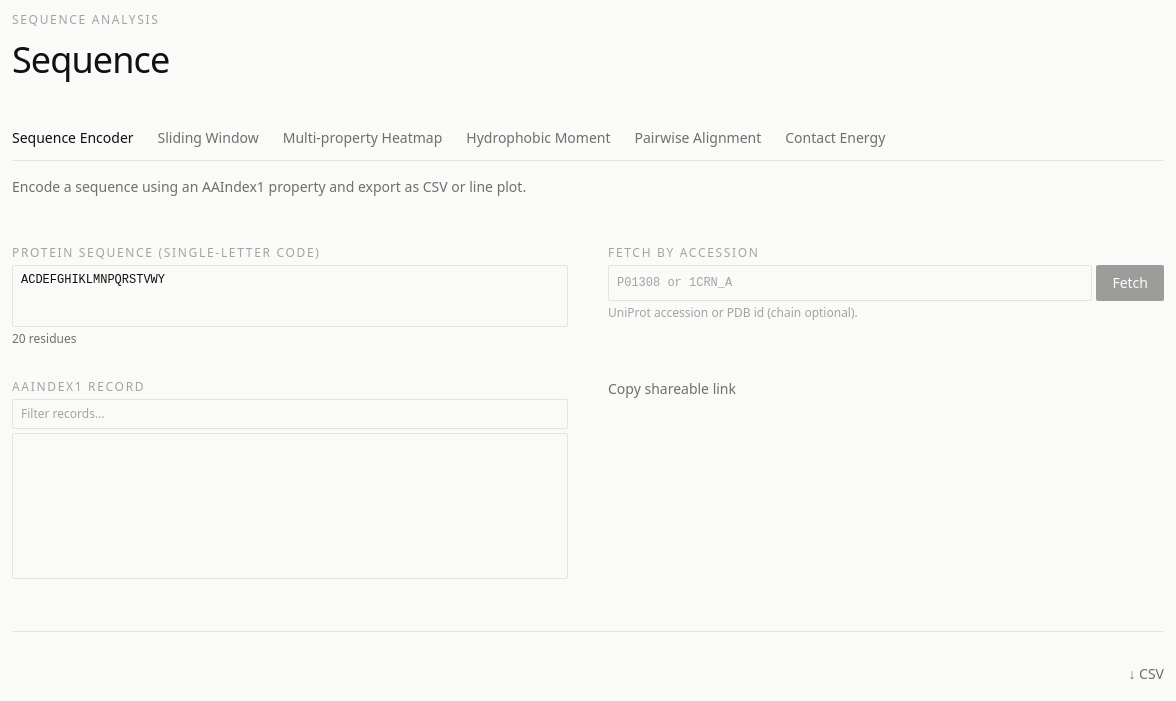
Test: SequenceAnalysis — Encoder tab › typing a new sequence updates the residue count
This screenshot has width=1176, height=701.
Replace the text in the text box with placeholder "e.g. ACDEFGHIKLMNPQRSTVWY" with "ACDE" at coordinates (290, 296), box [12,265,568,327]
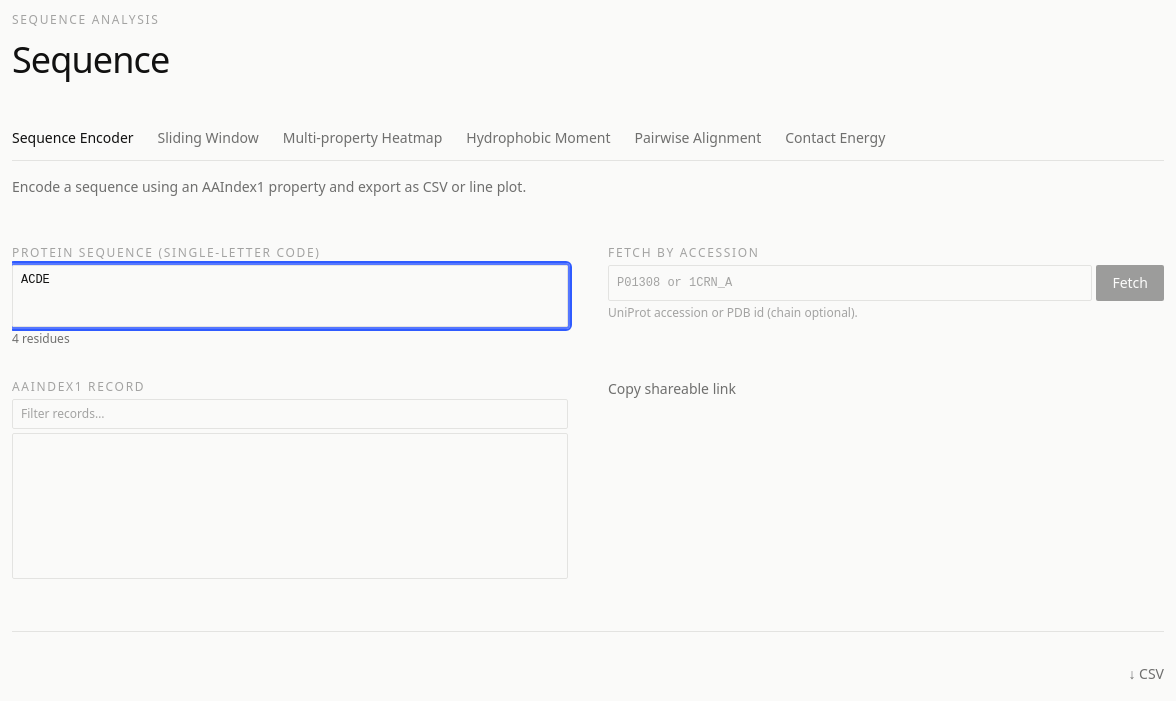
Expected: the text "4 residues" is shown, [12,331,70,347]
